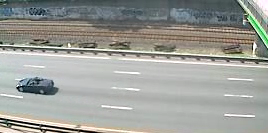car: (14, 75, 58, 97)
